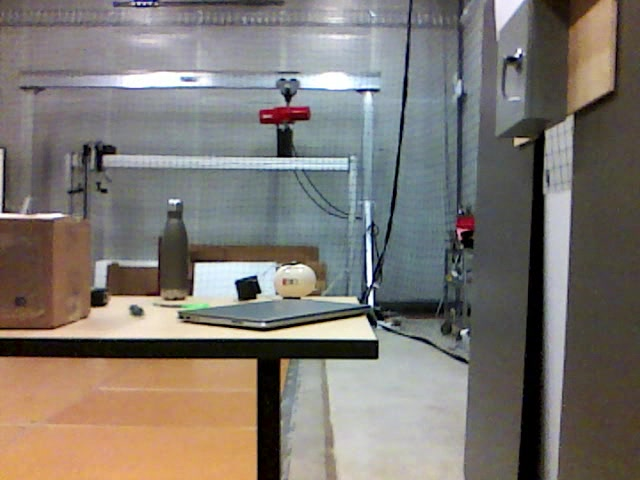box: (1, 214, 92, 332)
